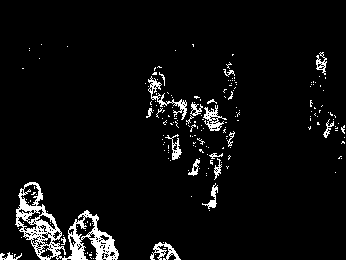person: (192, 96, 233, 211), (14, 180, 67, 260), (157, 91, 185, 159), (186, 93, 205, 178), (145, 64, 167, 120)
